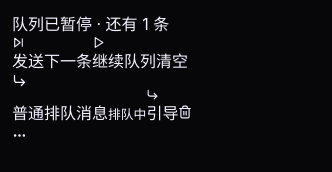
QueueDock › keeps legacy user queue items editable when source is absent
Click the button with class "chat-queue-copy": (79, 113) x1=12 y1=101 x2=146 y2=125
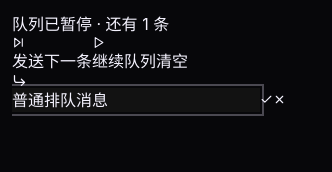
Expected: the field holds "普通排队消息", x1=12 y1=88 x2=260 y2=112
